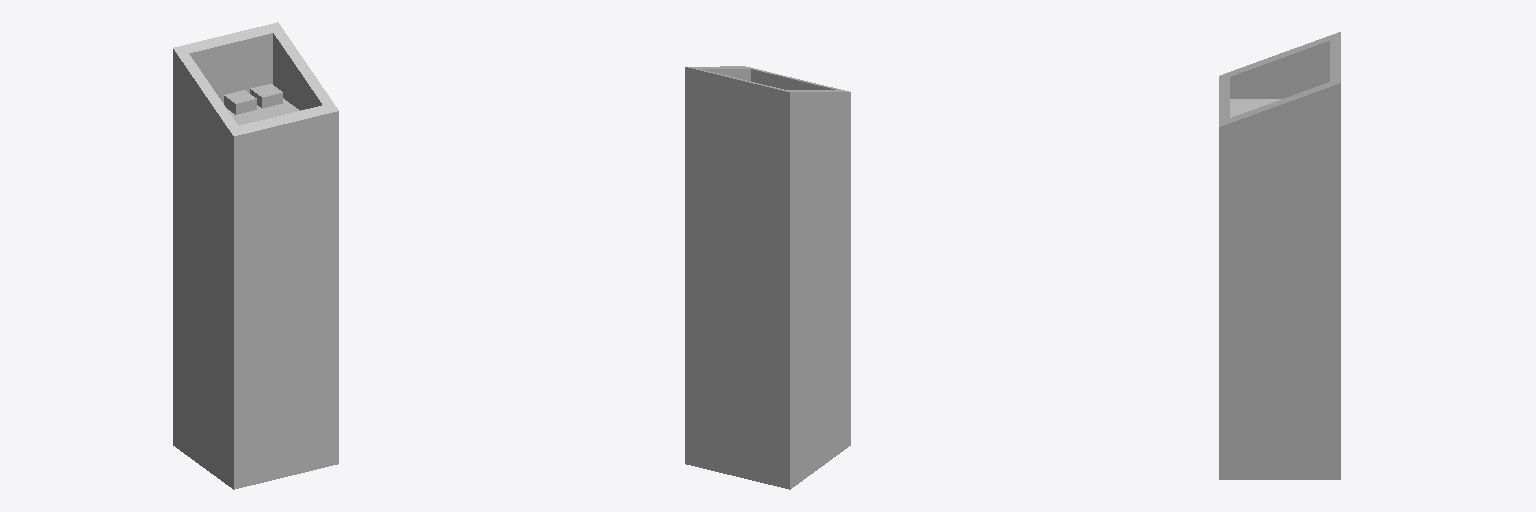
The model's file is low_buildingL.obj.
3 views of the same model, side by side, from view 1: azimuth 30°, elevation 25°; view 2: azimuth 150°, elevation 25°; view 3: azimuth 270°, elevation 25° (orthographic).
Visible parts, largest first — view 1: low_buildingL; view 2: low_buildingL; view 3: low_buildingL.
Boxes of the visible parts, <box> form: low_buildingL: <box>173,22,338,489</box>; low_buildingL: <box>685,66,850,489</box>; low_buildingL: <box>1219,32,1340,479</box>.
Bounding box in the file's own units: 0.5 × 1.8 × 0.5.